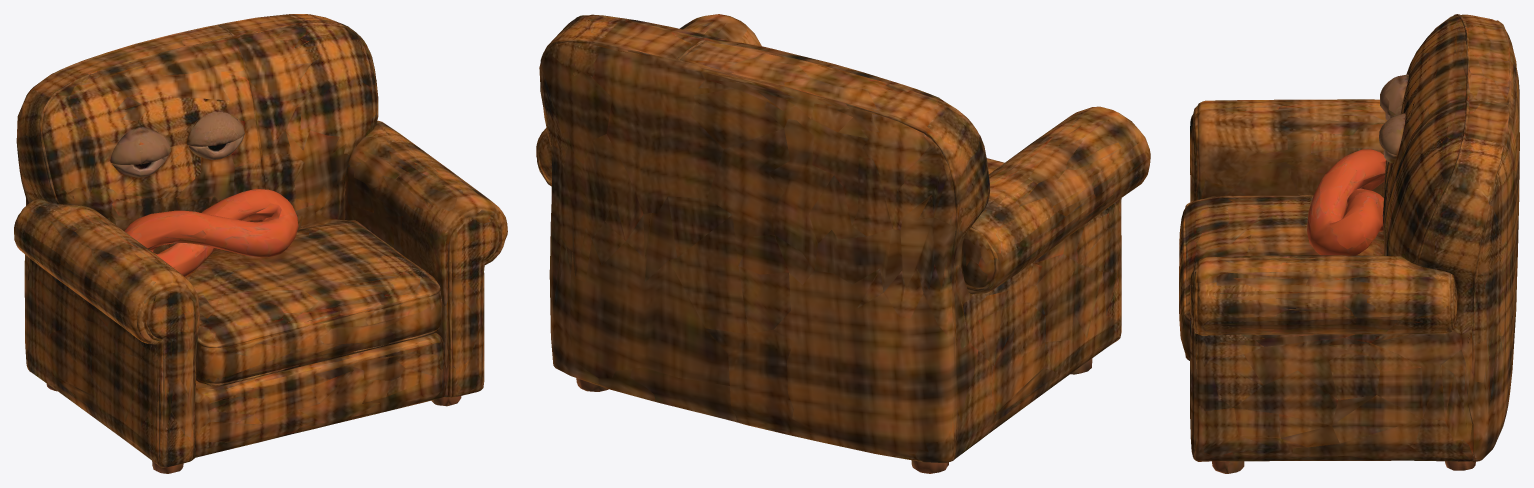
The model's file is diner_couch.glb.
The picture shows the model from 3 angles, left to right: view 1: azimuth 30°, elevation 25°; view 2: azimuth 150°, elevation 25°; view 3: azimuth 270°, elevation 25°; orthographic projection. The views are drawn at different scales.
Parts seen in each view (by area): view 1: Mesh_0; view 2: Mesh_0; view 3: Mesh_0.
Boxes of the visible parts, bbox=[...] form: Mesh_0: bbox=[14, 14, 507, 473]; Mesh_0: bbox=[536, 14, 1150, 473]; Mesh_0: bbox=[1179, 14, 1519, 473].
Bounding box in the file's own units: 1.9 × 1.47 × 1.41.
1 material, 1 textured.
